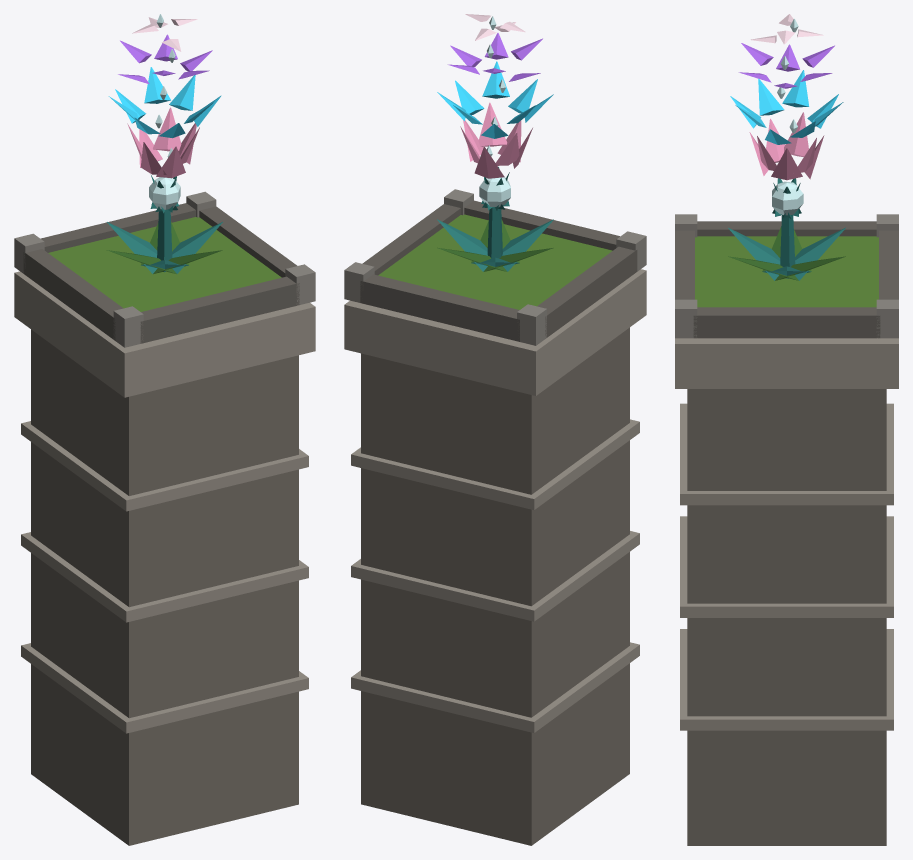
File: decor_floating_petals.glb
The picture shows the model from 3 angles, left to right: view 1: azimuth 30°, elevation 25°; view 2: azimuth 150°, elevation 25°; view 3: azimuth 270°, elevation 25°; orthographic projection.
Parts seen in each view (by area): view 1: decor_floating_petals; view 2: decor_floating_petals; view 3: decor_floating_petals.
Part boxes in pixels (left/top/right/bottom): decor_floating_petals: left=14, top=14, right=315, bottom=845; decor_floating_petals: left=344, top=14, right=646, bottom=845; decor_floating_petals: left=675, top=14, right=898, bottom=845.
Bounding box in the file's own units: 1.8 × 6.96 × 1.8.
